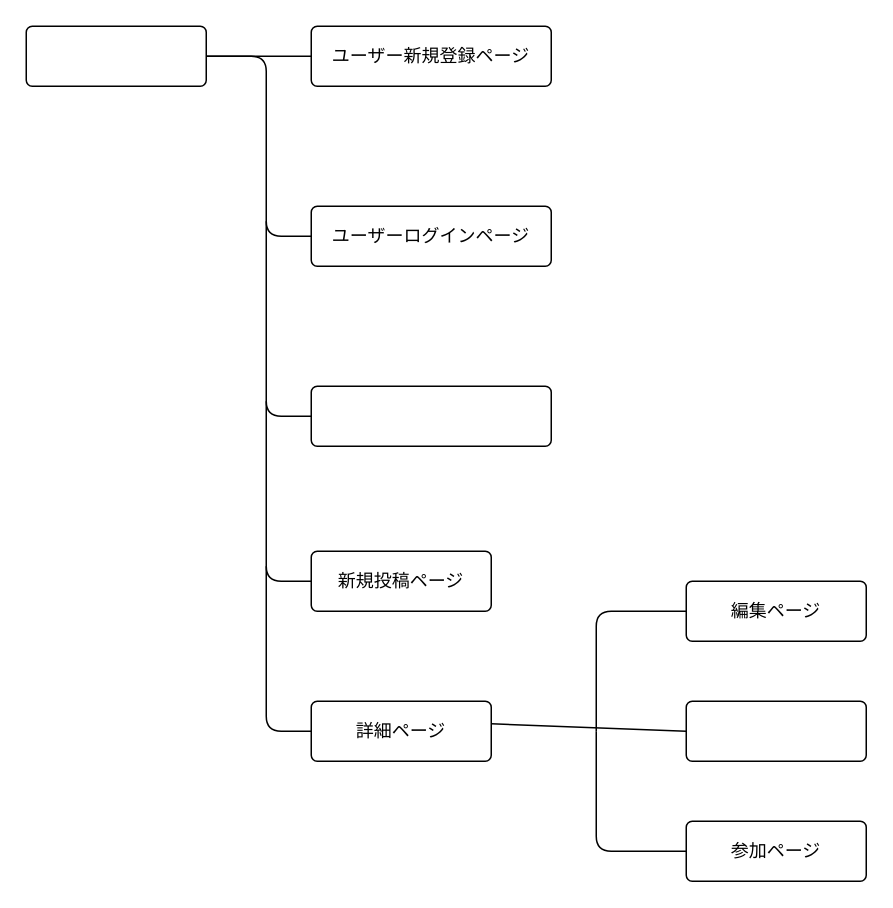
Some shapes in this 893 by 908 pixel diagram are drawn without their labels. Each missing label, with the centre of its shape:
コメント一覧ページ: (x=775, y=730)
ユーザーマイページ: (x=430, y=415)
一覧ページ: (x=115, y=55)
